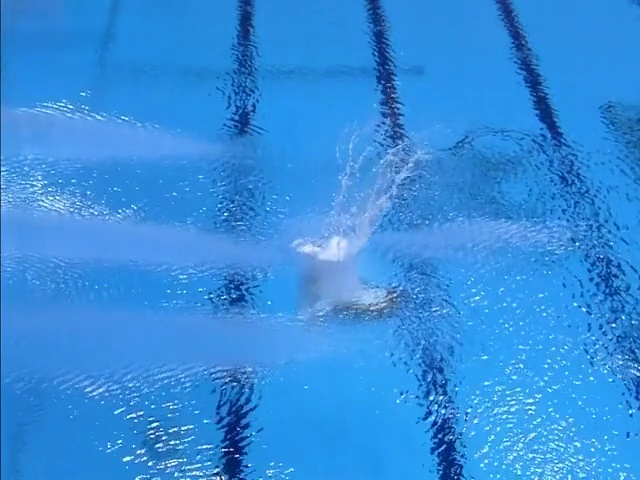splash: (290, 121, 432, 260)
